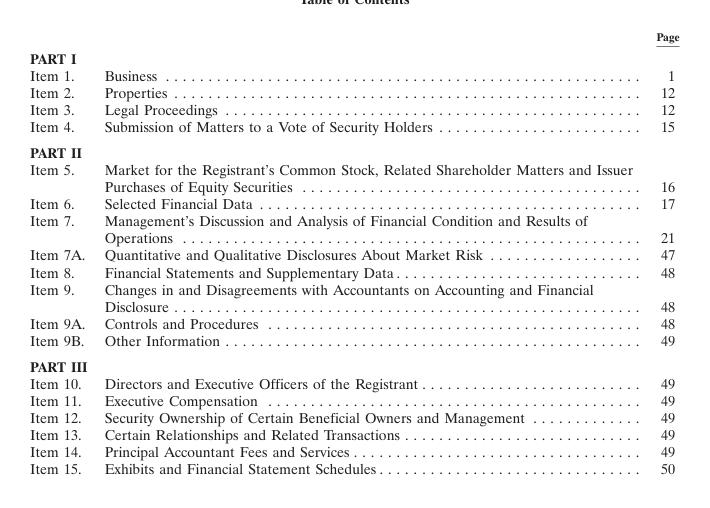table: (29, 29, 678, 476)
table column: (94, 29, 643, 476), (29, 29, 94, 476), (643, 29, 678, 476)
table column header: (29, 29, 678, 46)
table projected row header: (29, 139, 678, 160), (29, 352, 678, 373), (29, 46, 678, 66)
table row: (29, 160, 678, 194), (29, 211, 678, 245), (29, 280, 678, 314), (29, 117, 678, 139), (29, 139, 678, 160), (29, 331, 678, 352), (29, 352, 678, 373), (29, 46, 678, 66), (29, 262, 678, 280), (29, 373, 678, 391), (29, 29, 678, 46), (29, 66, 678, 83), (29, 83, 678, 100), (29, 100, 678, 117), (29, 194, 678, 211), (29, 245, 678, 262), (29, 314, 678, 331), (29, 391, 678, 408), (29, 408, 678, 425), (29, 425, 678, 442), (29, 442, 678, 459), (29, 459, 678, 476)
